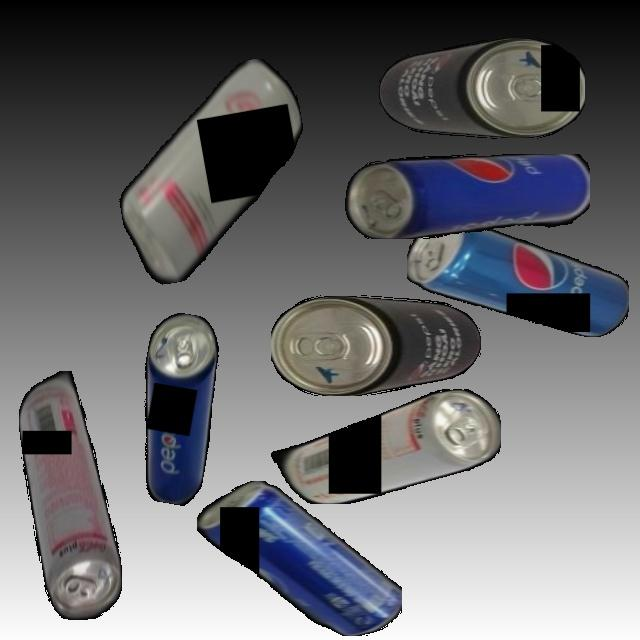debris: (100, 53, 325, 289), (196, 481, 402, 636), (270, 389, 501, 504), (406, 219, 629, 337), (18, 370, 122, 620), (271, 294, 481, 396), (123, 309, 230, 508), (345, 153, 590, 239), (378, 38, 585, 139)
